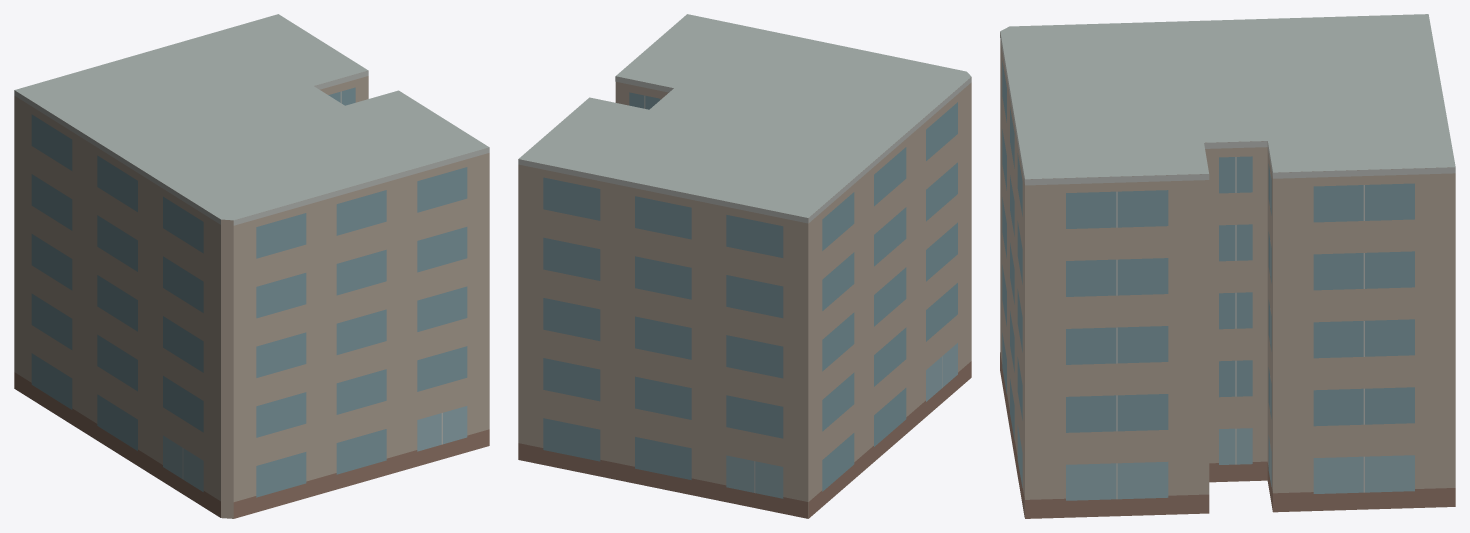
File: survey-upis-32737248.glb
The picture shows the model from 3 angles, left to right: view 1: azimuth 30°, elevation 25°; view 2: azimuth 150°, elevation 25°; view 3: azimuth 270°, elevation 25°; orthographic projection. The views are drawn at different scales.
Visible parts, largest first — view 1: survey-upis-32737248.tmp; view 2: survey-upis-32737248.tmp; view 3: survey-upis-32737248.tmp.
Boxes of the visible parts, x1,y1,x2,y2 form: survey-upis-32737248.tmp: (14, 14, 489, 518); survey-upis-32737248.tmp: (518, 14, 971, 518); survey-upis-32737248.tmp: (1000, 14, 1455, 518).
Size of the model in its own units: 14 by 13.4 by 16.3.
